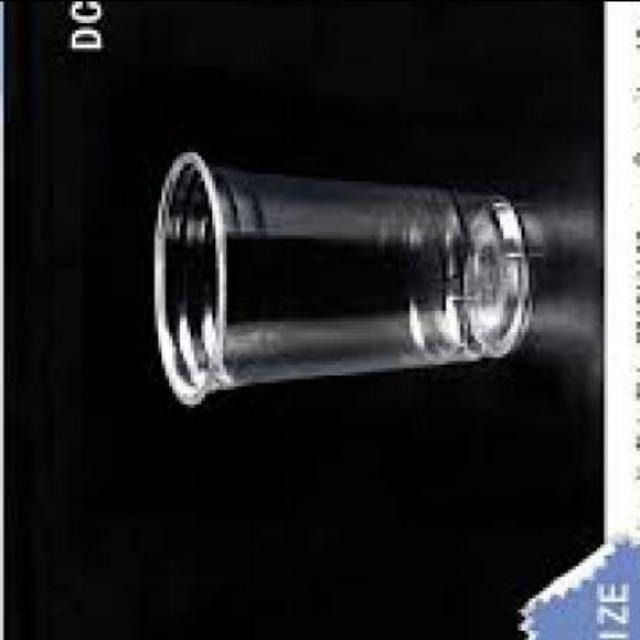plastic_box: (154, 148, 532, 402)
